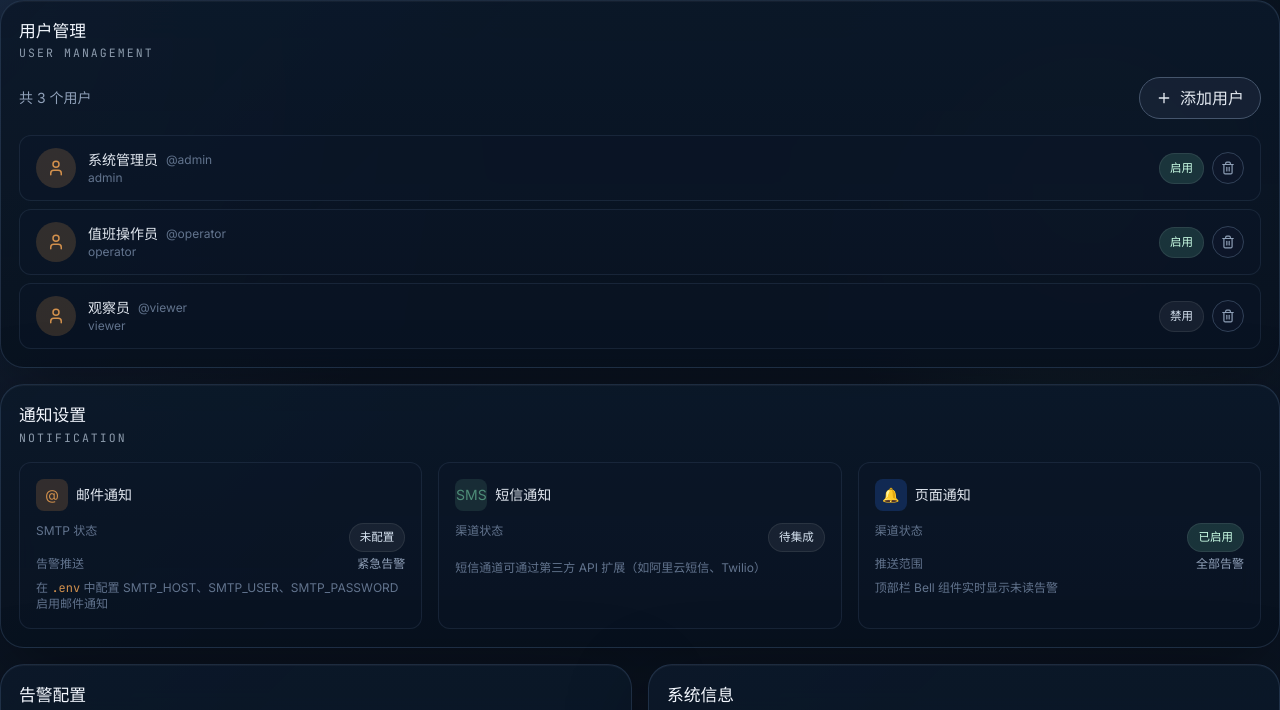
SettingsPage › shows create form when add user clicked
The image size is (1280, 710).
Click the button "添加用户".
click(1200, 98)  # box [1139, 78, 1261, 120]
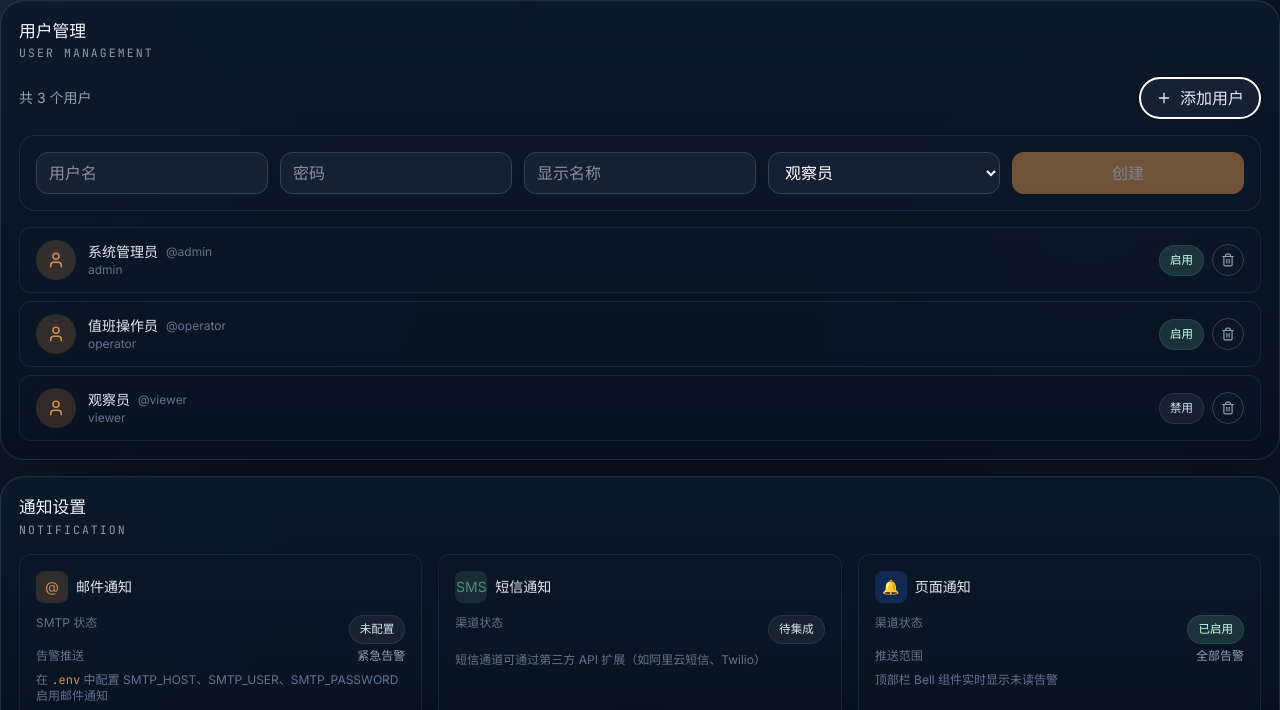
Result: the field with placeholder "用户名" is shown at [36, 152, 268, 194]
Result: the password field with placeholder "密码" is shown at [280, 152, 512, 194]
Result: the field with placeholder "显示名称" is shown at [524, 152, 756, 194]
